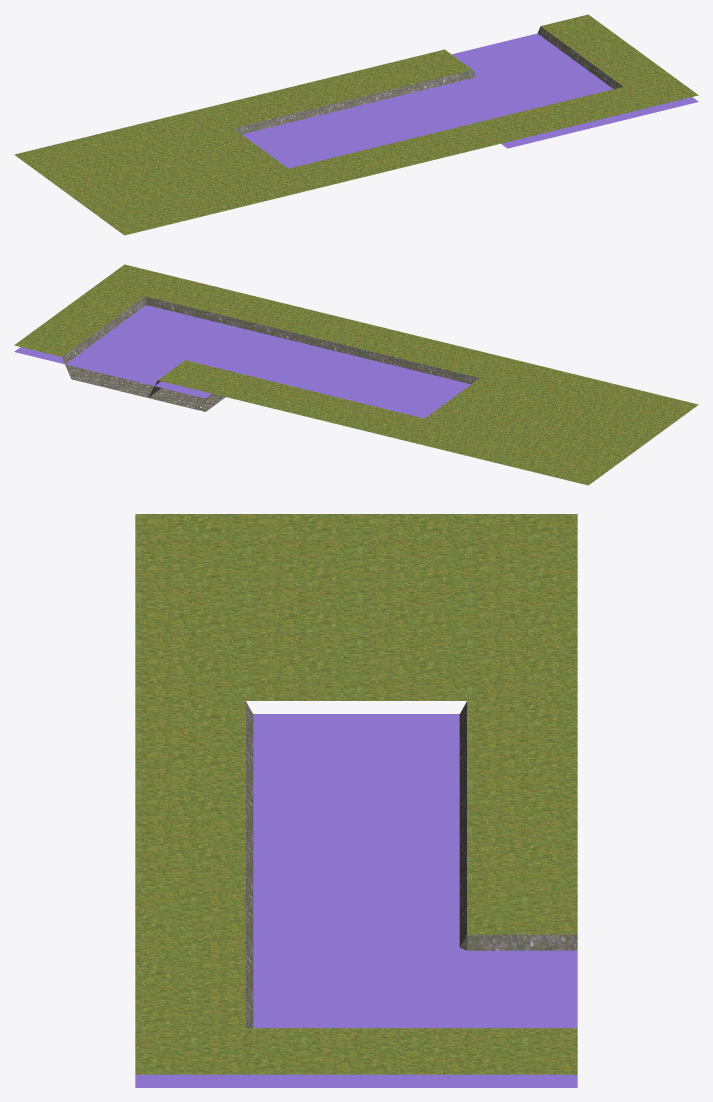
Rendered from pieces.glb.
3 views of the same model, one above another, from view 1: azimuth 30°, elevation 25°; view 2: azimuth 150°, elevation 25°; view 3: azimuth 270°, elevation 25° (orthographic). The views are drawn at different scales.
Visible parts, largest first — view 1: piece_river_corner, piece_flat, piece_river_horizontal; view 2: piece_river_corner, piece_flat, piece_river_horizontal; view 3: piece_river_corner, piece_river_horizontal, piece_flat.
Boxes of the visible parts, left/top/right/bottom form: piece_river_corner: left=397, top=14, right=698, bottom=148; piece_flat: left=14, top=108, right=315, bottom=235; piece_river_horizontal: left=206, top=61, right=506, bottom=188; piece_river_corner: left=14, top=264, right=315, bottom=411; piece_flat: left=397, top=358, right=698, bottom=485; piece_river_horizontal: left=206, top=311, right=506, bottom=438; piece_river_corner: left=135, top=888, right=577, bottom=1087; piece_river_horizontal: left=135, top=701, right=577, bottom=900; piece_flat: left=135, top=514, right=577, bottom=700.
Size of the model in its own units: 12 by 0.4 by 4.
Materials: 3 (2 with a texture image).
